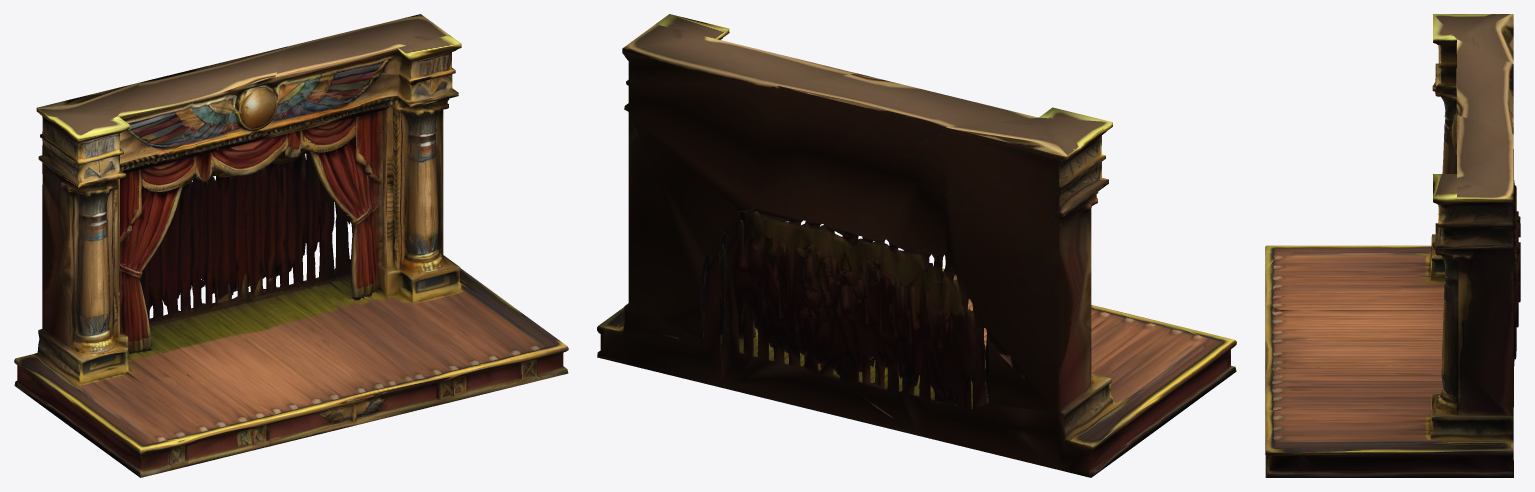
Rendered from egy-proscenium-stage.glb.
3 renders of one model, left to right at view 1: azimuth 30°, elevation 25°; view 2: azimuth 150°, elevation 25°; view 3: azimuth 270°, elevation 25°, orthographic. The views are drawn at different scales.
Parts seen in each view (by area): view 1: model; view 2: model; view 3: model.
Boxes of the visible parts, x1=… form: model: x1=14, y1=14, x2=568, y2=477; model: x1=597, y1=14, x2=1236, y2=477; model: x1=1265, y1=14, x2=1520, y2=477.
Bounding box in the file's own units: 12 × 7.3 × 6.29.
Materials: 1 (1 with a texture image).
